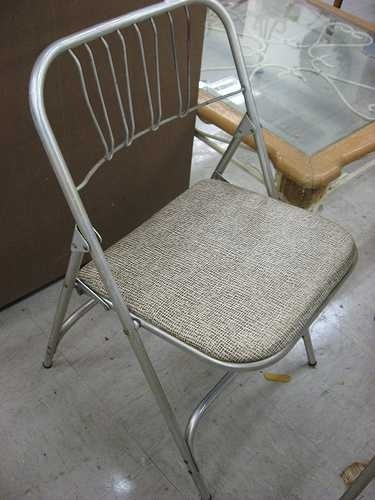obstacle: (29, 0, 356, 499)
